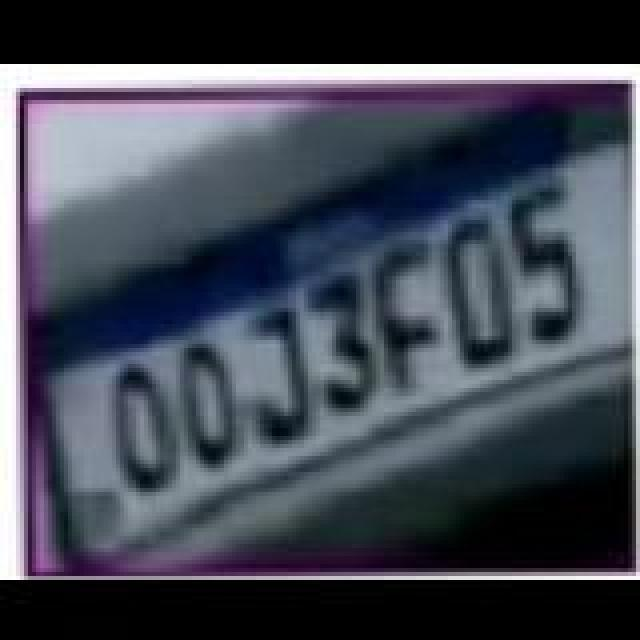3: (310, 272, 378, 416)
5: (514, 182, 590, 346)
D: (444, 216, 516, 368)
F: (372, 242, 444, 390)
J: (246, 306, 314, 446)
O: (112, 356, 184, 492), (180, 338, 244, 470)
